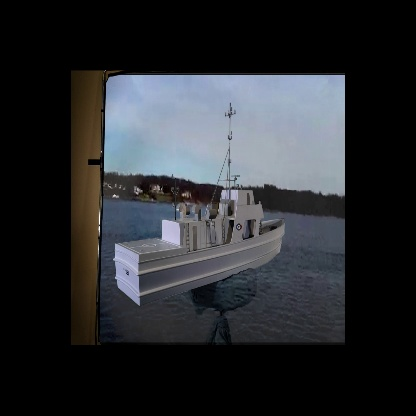YP689: (112, 105, 285, 312)
